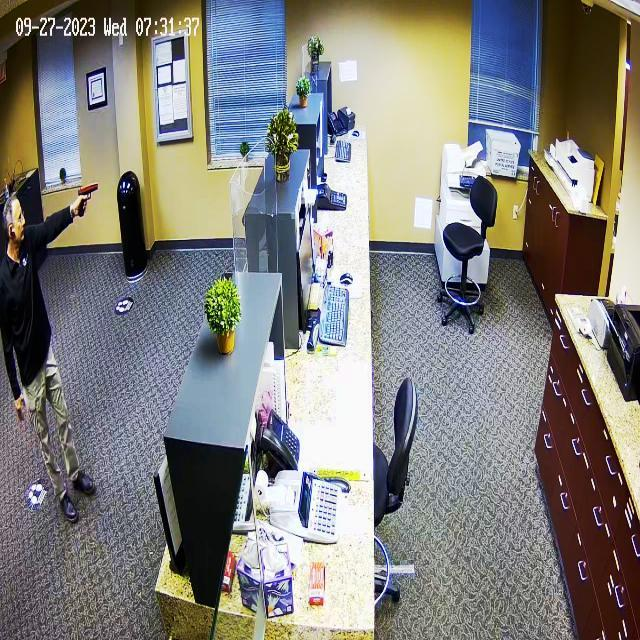Gun: (68, 171, 109, 226)
